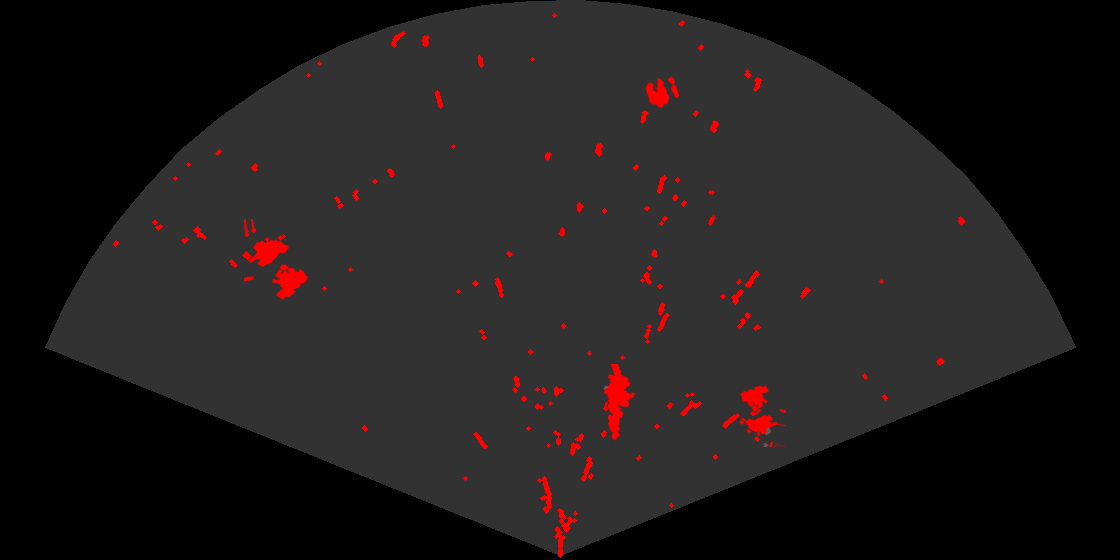ball: (644, 75, 681, 109)
cage: (244, 219, 309, 301), (738, 384, 786, 447)
frogman: (602, 364, 636, 442)
